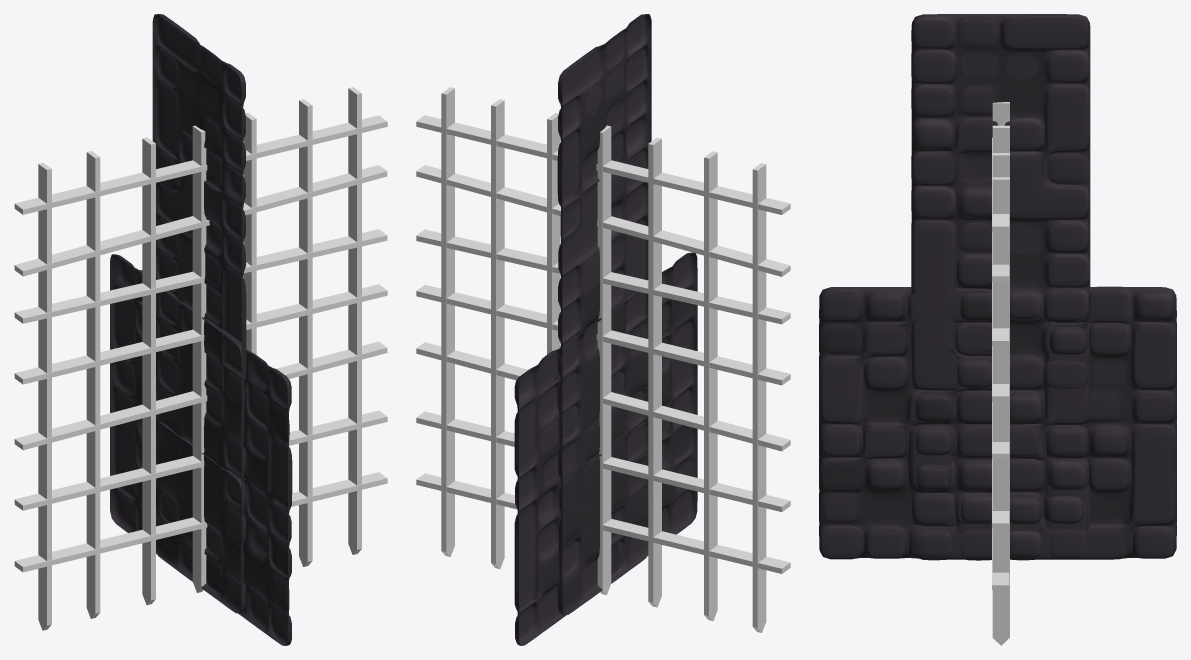
Rendered from Pumpkin_Gate.fbx.
The picture shows the model from 3 angles, left to right: view 1: azimuth 30°, elevation 25°; view 2: azimuth 150°, elevation 25°; view 3: azimuth 270°, elevation 25°; orthographic projection.
Visible parts, largest first — view 1: Cube.011, Plane.002, Plane.004, Plane.003, Plane.005; view 2: Cube.011, Plane.002, Plane.004, Plane.003, Plane.005; view 3: Plane.002, Plane.004, Plane.003, Cube.011, Plane.005.
Boxes of the visible parts, x1=… form: Cube.011: x1=14, y1=87, x2=387, y2=630; Plane.002: x1=152, y1=14, x2=246, y2=612; Plane.004: x1=110, y1=254, x2=292, y2=645; Plane.003: x1=156, y1=291, x2=245, y2=612; Plane.005: x1=156, y1=421, x2=244, y2=613; Cube.011: x1=416, y1=87, x2=790, y2=632; Plane.002: x1=557, y1=14, x2=651, y2=614; Plane.004: x1=514, y1=252, x2=697, y2=645; Plane.003: x1=557, y1=291, x2=648, y2=614; Plane.005: x1=559, y1=422, x2=648, y2=615; Plane.002: x1=911, y1=14, x2=1090, y2=558; Plane.004: x1=819, y1=286, x2=1176, y2=559; Plane.003: x1=912, y1=292, x2=1090, y2=559; Cube.011: x1=992, y1=102, x2=1009, y2=645; Plane.005: x1=915, y1=425, x2=1090, y2=560.
Bounding box in the file's own units: 1409 × 1192 × 2033.
